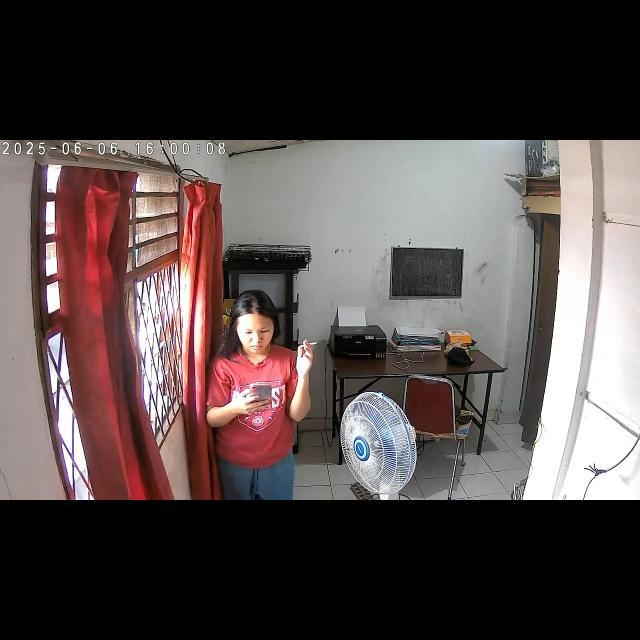rokok: (294, 339, 320, 349)
